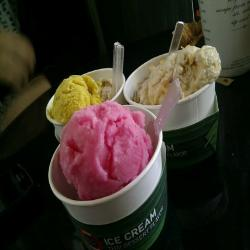icecream: (31, 102, 179, 212), (122, 35, 222, 132), (48, 64, 123, 125)
